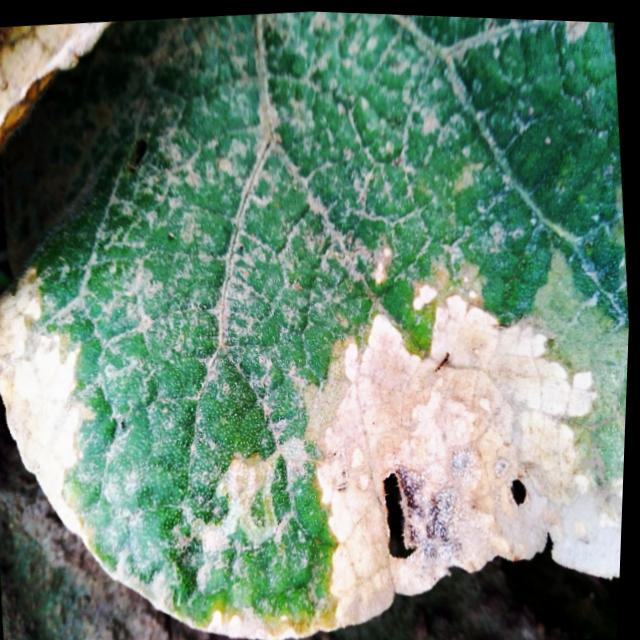Anthracnose: (370, 452, 425, 567), (121, 125, 153, 182), (503, 468, 533, 514)
